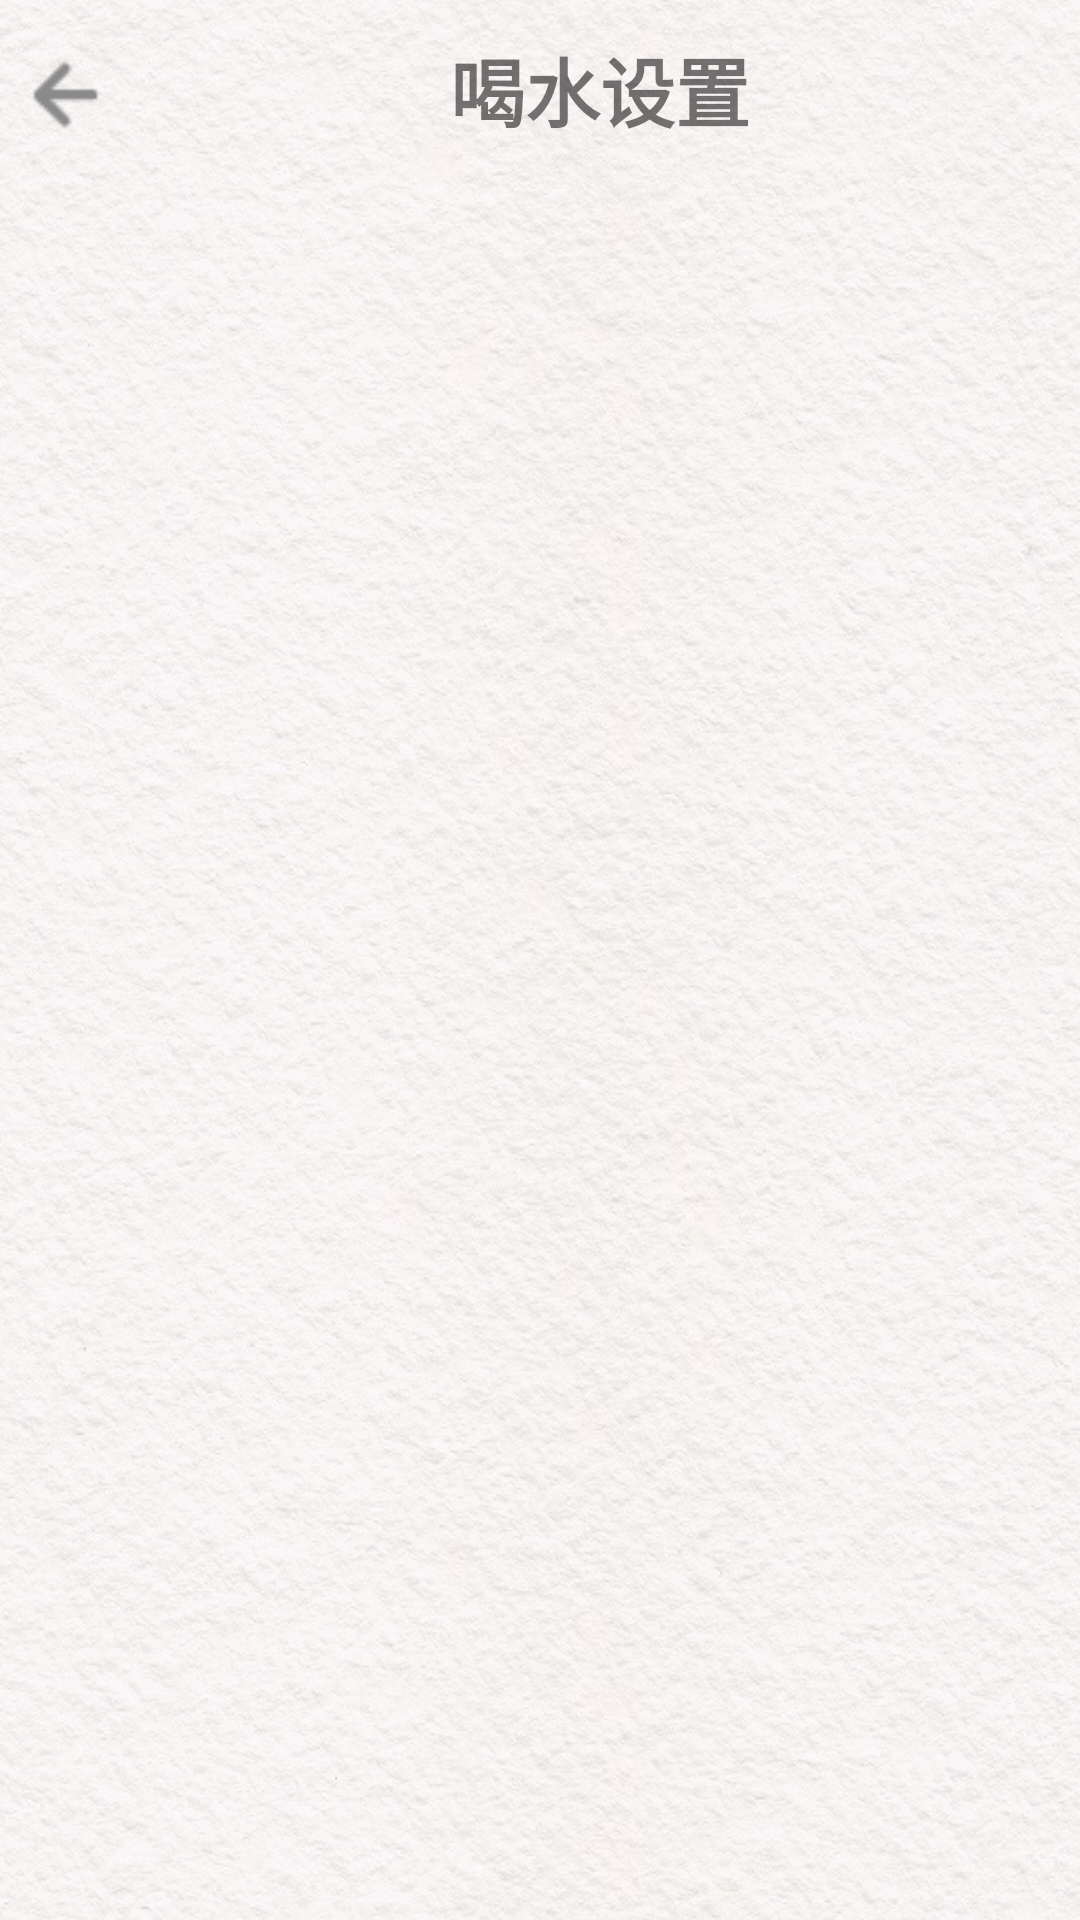

Where icons sit on this 1080w x 1920h app screen, as rect(x1, y1, x2, y2):
back: rect(33, 61, 98, 128)
